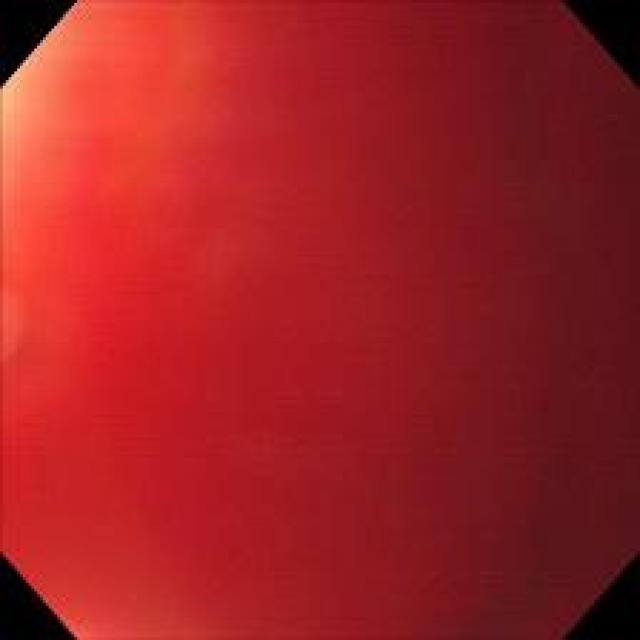color misalignment: (8, 12, 624, 631)
